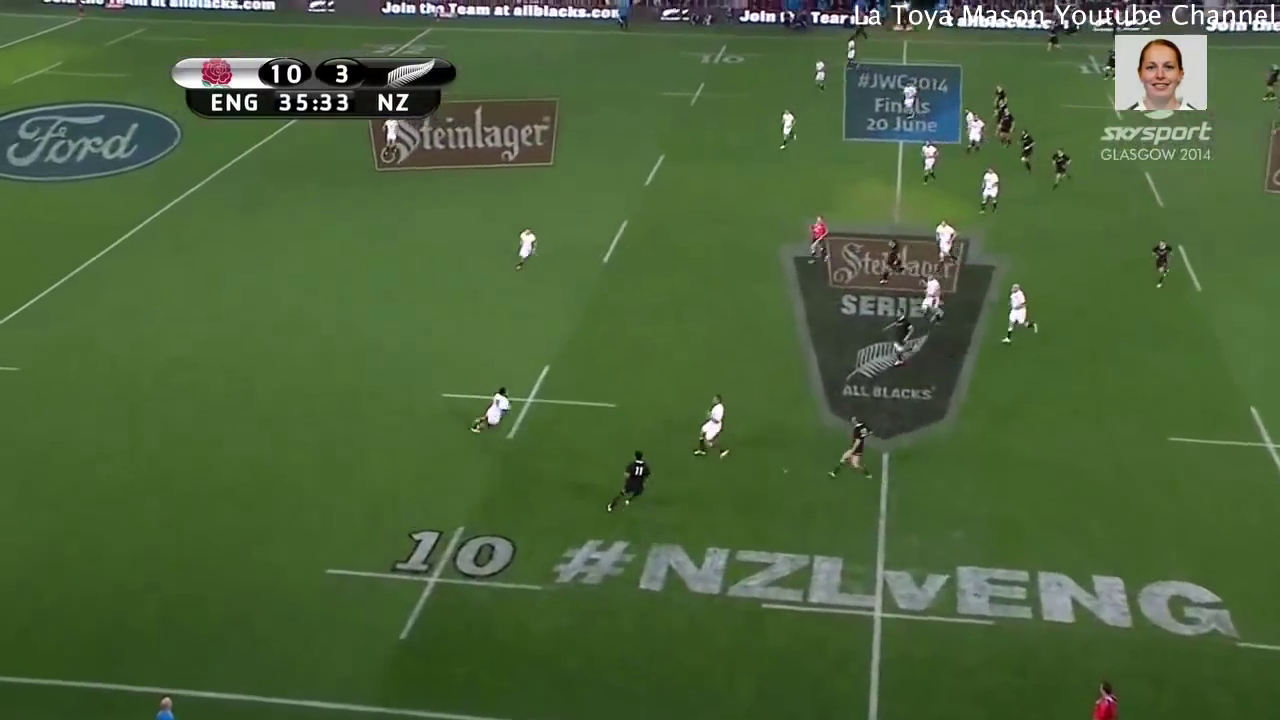10_metre: (319, 521, 554, 644), (433, 363, 627, 439), (678, 41, 772, 71), (657, 79, 749, 108)
player: (605, 444, 654, 517), (683, 391, 732, 462), (827, 413, 874, 486), (1000, 279, 1045, 352), (472, 382, 514, 434), (912, 268, 949, 326), (883, 307, 915, 364), (804, 209, 830, 268), (930, 216, 957, 269), (882, 228, 905, 290), (1148, 238, 1175, 290), (513, 222, 540, 270), (976, 168, 1002, 216), (774, 102, 799, 151), (1049, 145, 1074, 190), (917, 137, 939, 186), (1017, 129, 1038, 179), (965, 114, 986, 156), (899, 78, 920, 118), (807, 56, 828, 95), (997, 107, 1015, 151), (842, 38, 860, 70), (1101, 45, 1115, 84), (991, 84, 1010, 111), (1045, 26, 1062, 53)
